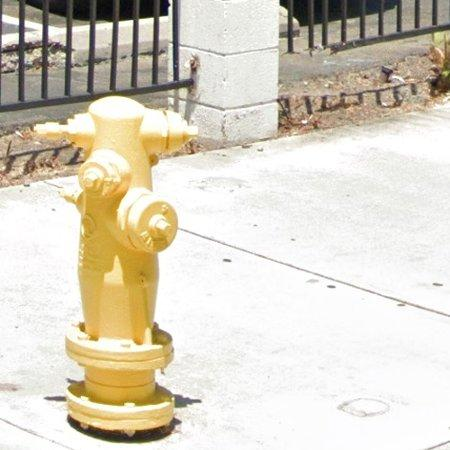a fire hydrant: (35, 96, 197, 436)
